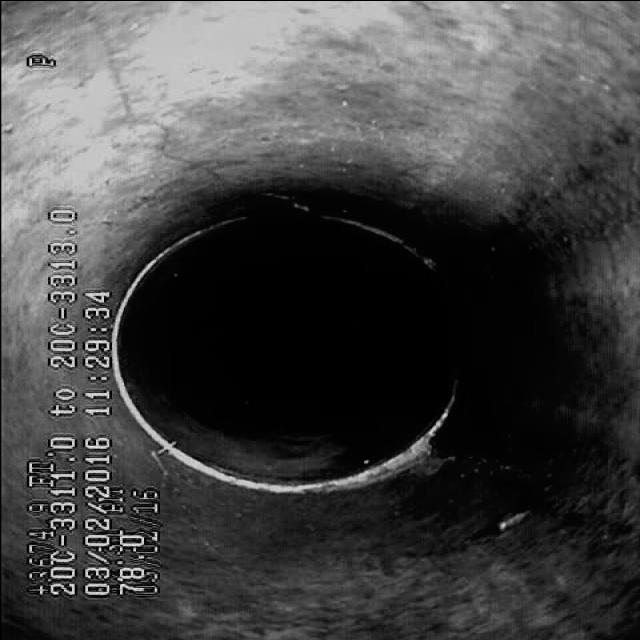Crack: (90, 30, 230, 170)
